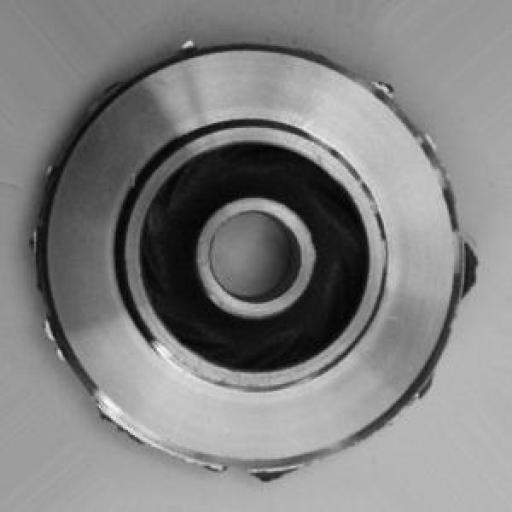defect: (32, 31, 488, 492)
